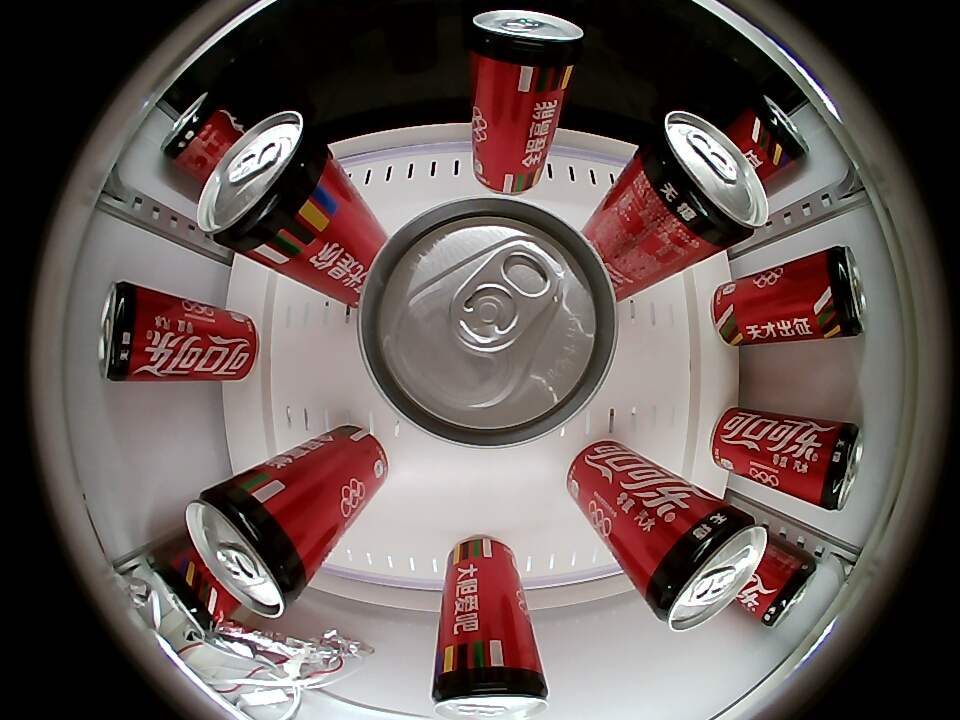lingdukele: (356, 197, 619, 448), (197, 112, 327, 253), (638, 112, 769, 249), (187, 478, 312, 619), (640, 501, 768, 630), (469, 9, 584, 80), (432, 656, 549, 720), (801, 245, 867, 340), (150, 548, 222, 634), (100, 280, 159, 381), (798, 421, 863, 512), (747, 547, 818, 629), (162, 93, 230, 172), (741, 94, 807, 172)
